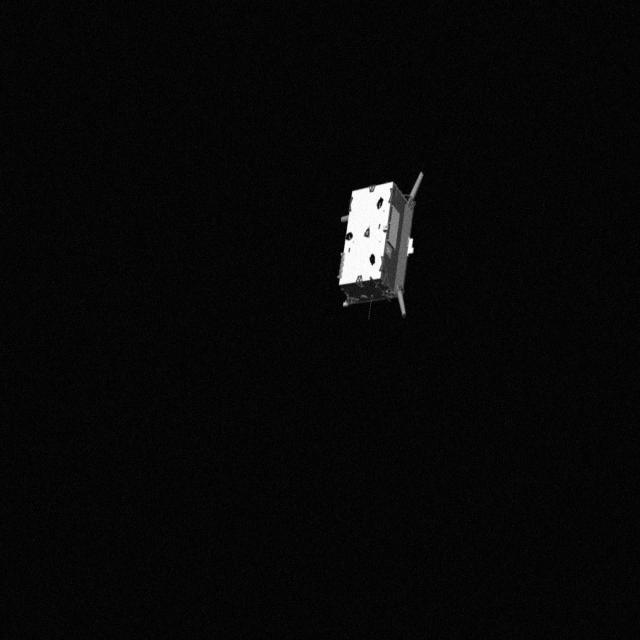medium_debris: (330, 168, 442, 324)
